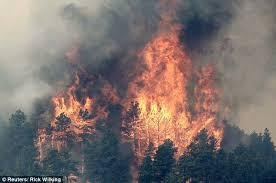fire: (127, 17, 228, 157)
